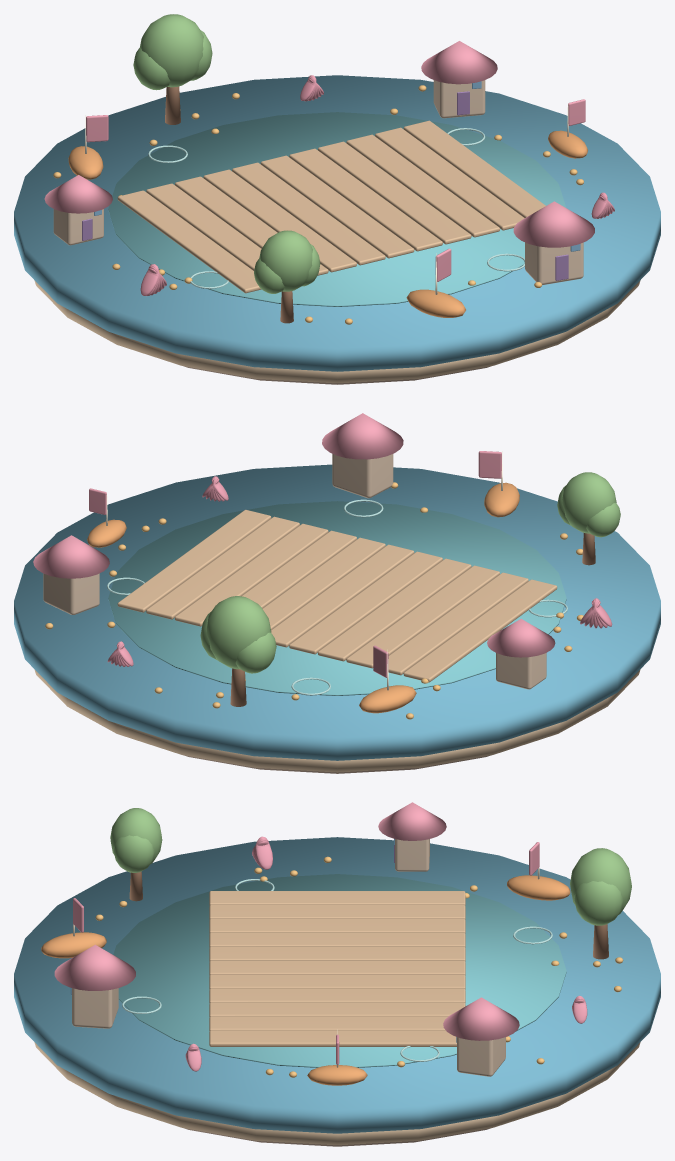
The model's file is world.glb.
3 renders of one model, top to bottom at view 1: azimuth 30°, elevation 25°; view 2: azimuth 150°, elevation 25°; view 3: azimuth 270°, elevation 25°, orthographic.
Parts seen in each view (by area): view 1: Cone, Cone.003, Cone.001, tree.001, house.003, house.001, Cube.005, Cube.004, Cube.006, Cube.007, Cube.008, Cube (+12 smaller); view 2: Cone, Cone.003, Cone.001, tree.001, house.003, house.001, Cube, Cube.010, Cube.004, Cube.003, Cube.009, Cube.005 (+12 smaller); view 3: Cone, Cone.003, Cone.001, house.003, tree.001, Cube.010, house.001, Cube.006, Cube.007, Cube.005, Cube.008, Cube (+12 smaller).
Part boxes in pixels (bbox=[...]): Cone: bbox=[14, 75, 660, 371]; Cone.003: bbox=[108, 112, 566, 306]; Cone.001: bbox=[34, 280, 640, 383]; tree.001: bbox=[133, 14, 212, 124]; house.003: bbox=[513, 201, 594, 284]; house.001: bbox=[421, 41, 497, 118]; Cube.005: bbox=[260, 155, 414, 258]; Cube.004: bbox=[232, 162, 385, 265]; Cube.006: bbox=[289, 148, 442, 251]; Cube.007: bbox=[318, 141, 471, 244]; Cube.008: bbox=[346, 134, 499, 237]; Cube: bbox=[117, 190, 261, 293]; Cone: bbox=[14, 464, 660, 760]; Cone.003: bbox=[108, 501, 566, 695]; Cone.001: bbox=[34, 669, 640, 772]; tree.001: bbox=[200, 596, 276, 706]; house.003: bbox=[322, 413, 403, 498]; house.001: bbox=[33, 535, 109, 614]; Cube: bbox=[403, 579, 557, 682]; Cube.010: bbox=[117, 509, 271, 612]; Cube.004: bbox=[289, 551, 442, 654]; Cube.003: bbox=[318, 558, 471, 661]; Cube.009: bbox=[146, 516, 299, 619]; Cube.005: bbox=[271, 544, 414, 647]; Cone: bbox=[14, 837, 660, 1133]; Cone.003: bbox=[113, 874, 566, 1067]; Cone.001: bbox=[34, 1042, 640, 1145]; house.003: bbox=[54, 944, 135, 1028]; tree.001: bbox=[570, 848, 631, 959]; Cube.010: bbox=[209, 1030, 456, 1046]; house.001: bbox=[443, 997, 519, 1076]; Cube.006: bbox=[209, 974, 465, 989]; Cube.007: bbox=[209, 988, 465, 1003]; Cube.005: bbox=[209, 960, 465, 975]; Cube.008: bbox=[209, 1002, 465, 1017]; Cube: bbox=[209, 891, 465, 905].
Bounding box in the file's own units: 9.6 × 2.52 × 9.6.
